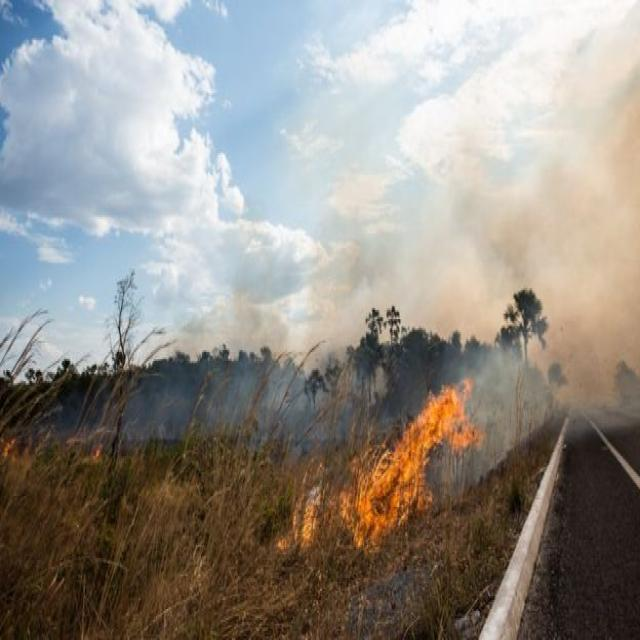Fire: (273, 424, 434, 556), (416, 382, 476, 422), (435, 423, 483, 450)
Smoke: (21, 348, 268, 443), (271, 352, 414, 422), (486, 342, 560, 464), (436, 456, 483, 504), (435, 340, 484, 378)
